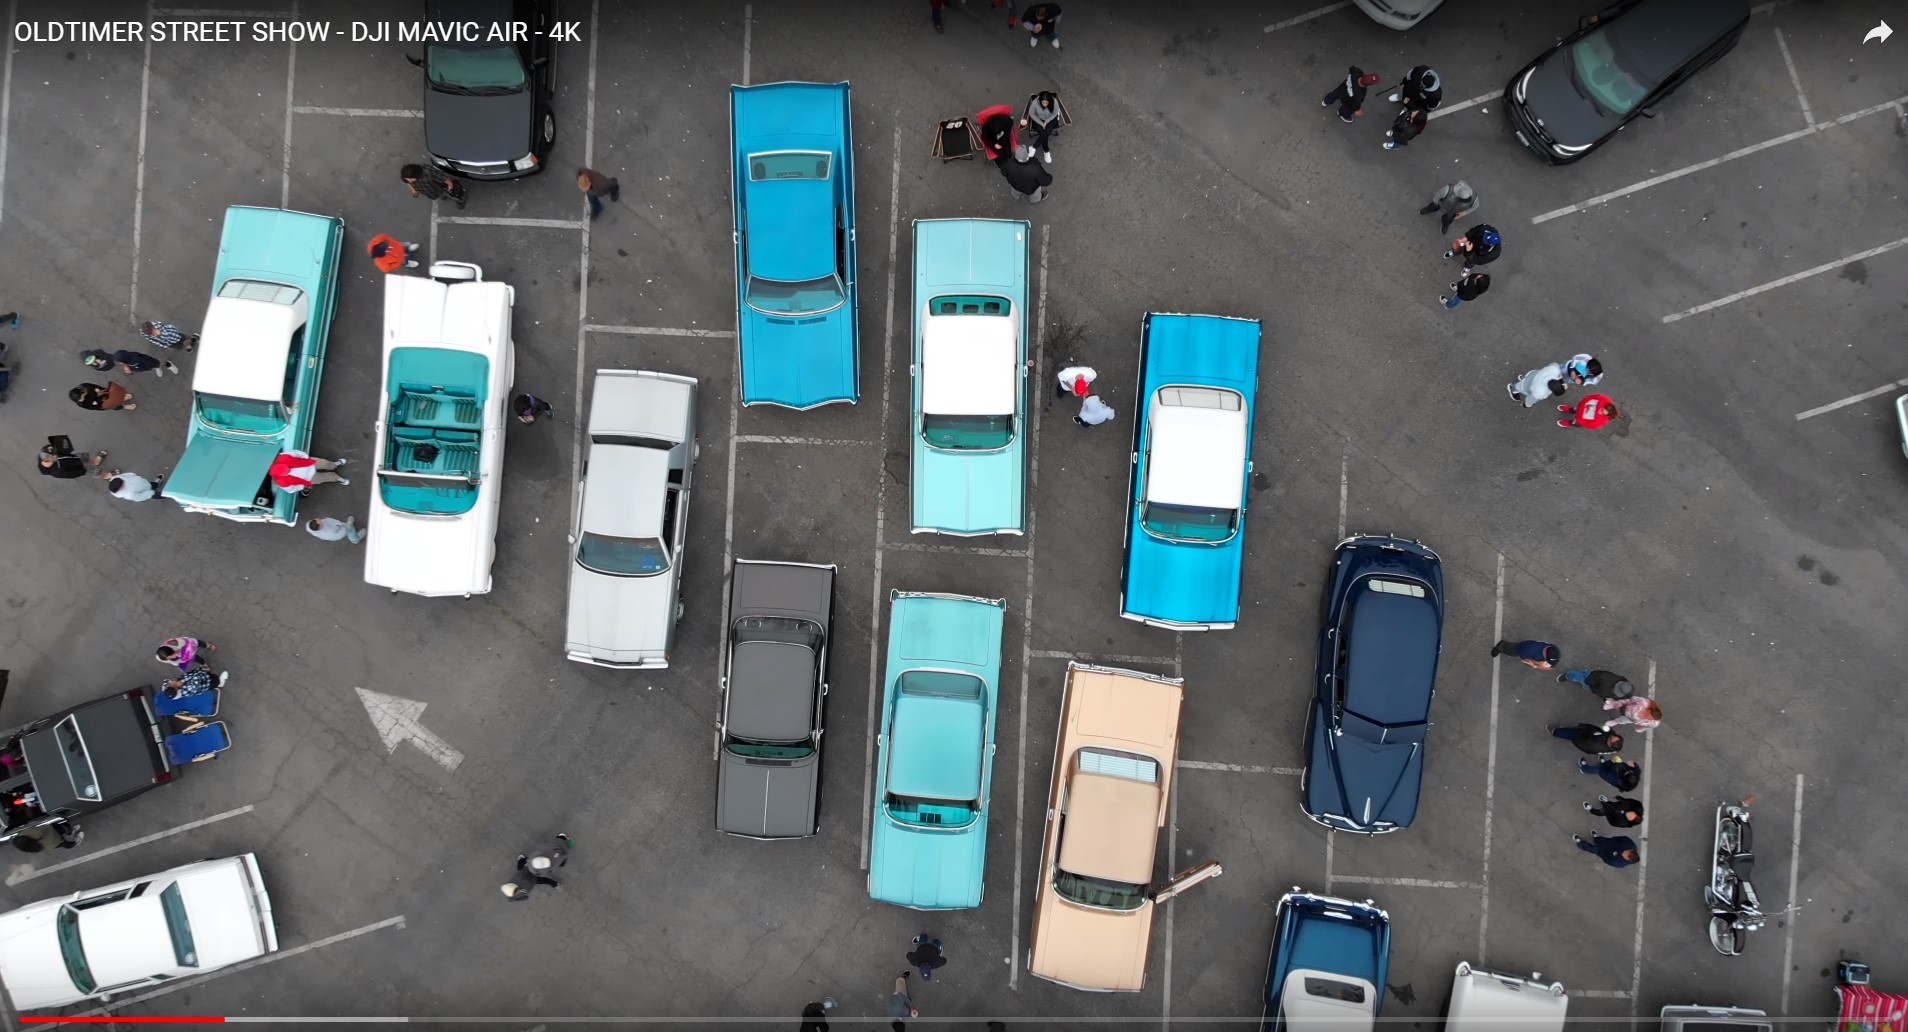araba: (171, 204, 348, 526), (357, 265, 515, 604), (1030, 658, 1185, 996), (865, 575, 1011, 910), (1293, 520, 1447, 832), (1114, 304, 1258, 636), (1, 850, 281, 1014), (722, 82, 861, 407), (900, 214, 1035, 543), (1504, 1, 1747, 170), (564, 370, 696, 675), (711, 559, 837, 841), (1, 683, 189, 841), (418, 1, 555, 176), (1257, 889, 1403, 1032)
insan: (1483, 621, 1572, 671), (262, 451, 362, 493), (28, 431, 103, 486), (994, 136, 1055, 200), (393, 157, 472, 206), (97, 458, 168, 510), (301, 508, 380, 553), (1323, 57, 1386, 111), (1560, 661, 1640, 703), (103, 340, 178, 385), (365, 233, 433, 281), (1546, 714, 1621, 758), (512, 836, 585, 879), (1598, 692, 1671, 732), (1441, 221, 1503, 267), (487, 854, 541, 906), (139, 313, 197, 358), (1573, 754, 1650, 788), (904, 929, 954, 982), (568, 157, 618, 211), (1018, 1, 1072, 49), (1437, 264, 1497, 308), (1575, 828, 1643, 864), (511, 376, 550, 438), (1508, 364, 1568, 404), (1555, 390, 1618, 428), (1071, 386, 1123, 432), (1379, 106, 1428, 154), (71, 381, 136, 417), (1419, 181, 1478, 220), (1026, 85, 1071, 136), (1589, 792, 1650, 829), (1391, 65, 1443, 107), (1050, 356, 1097, 401), (155, 640, 225, 668), (73, 345, 129, 368)
